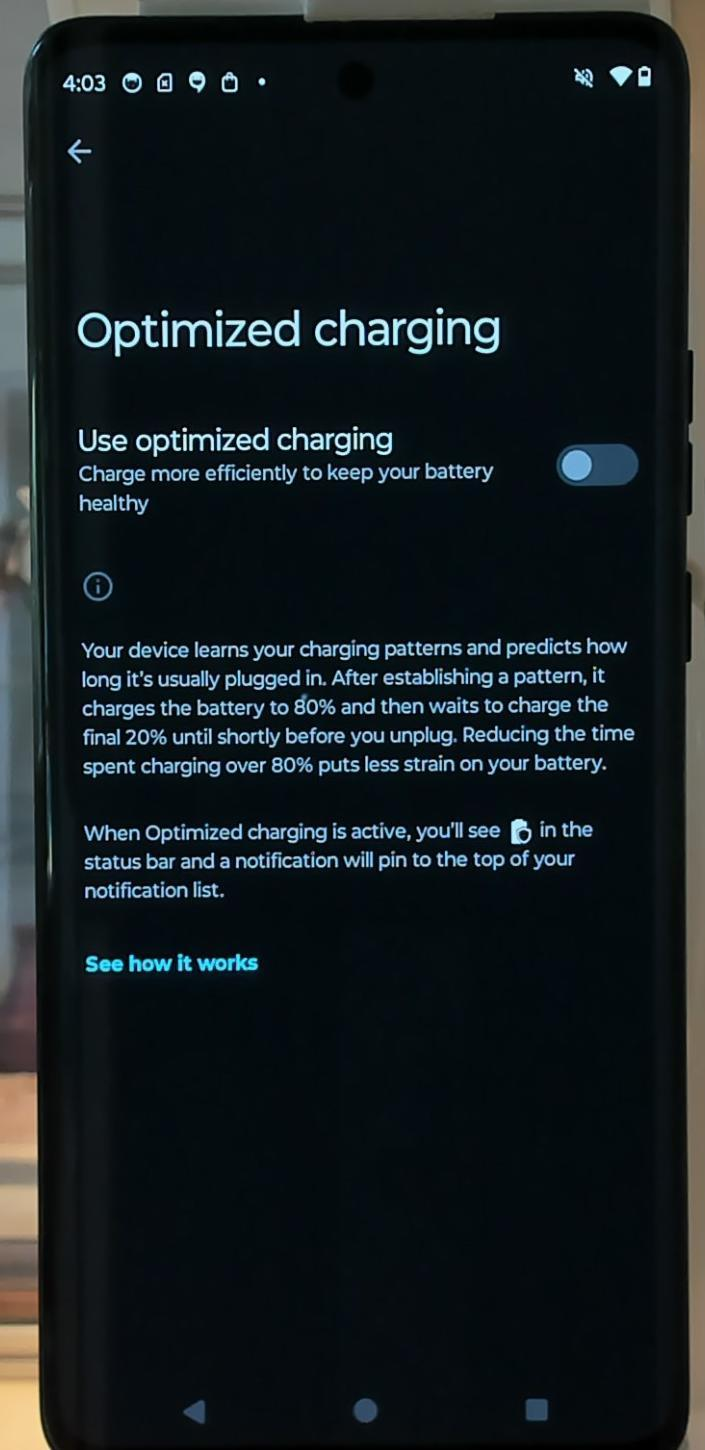Checkbox: (68, 415, 645, 532)
